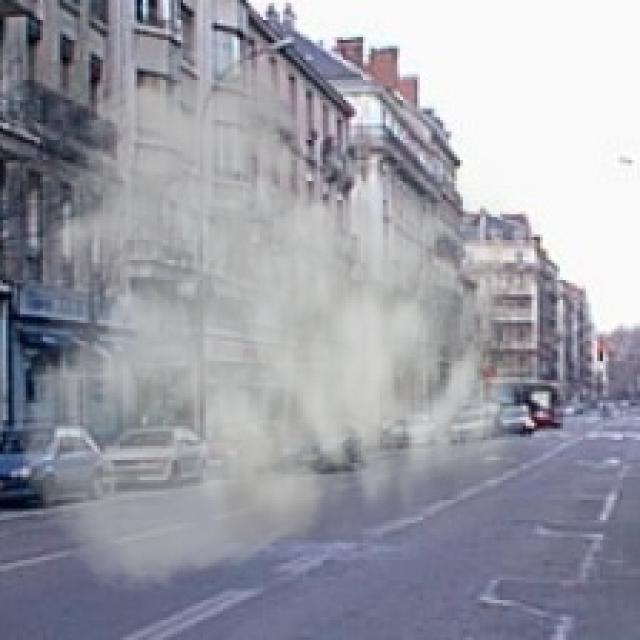Smoke: (11, 42, 552, 598)
